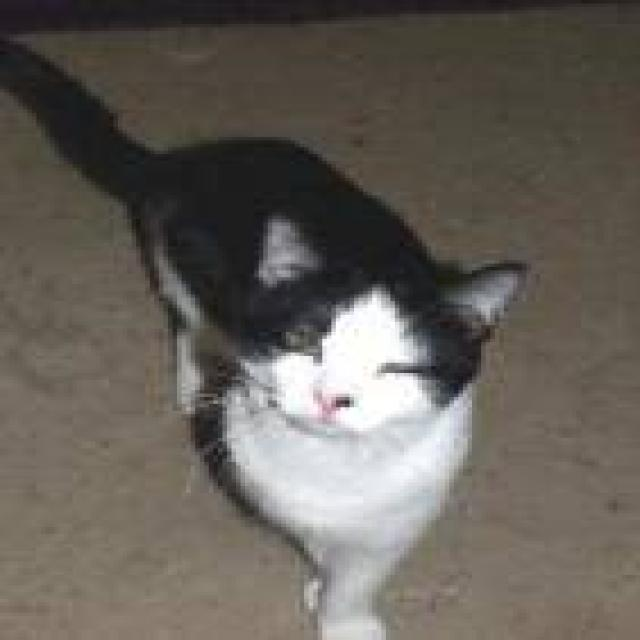cat: (0, 24, 527, 637)
